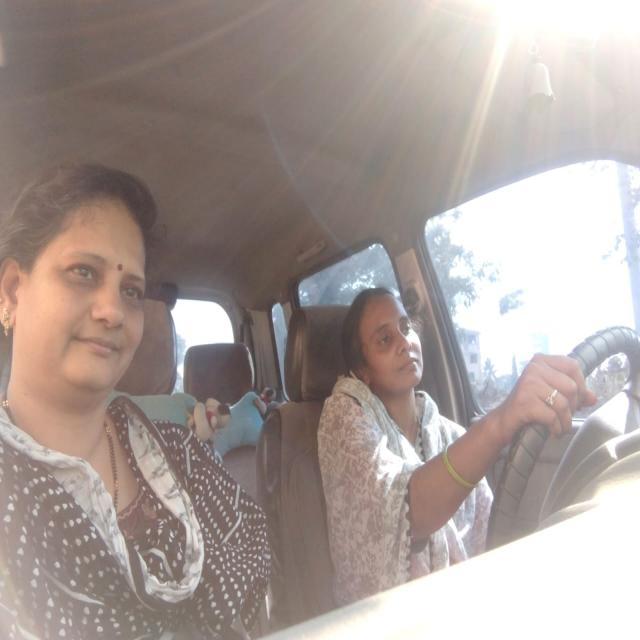person: (0, 157, 170, 405), (336, 287, 434, 407)
